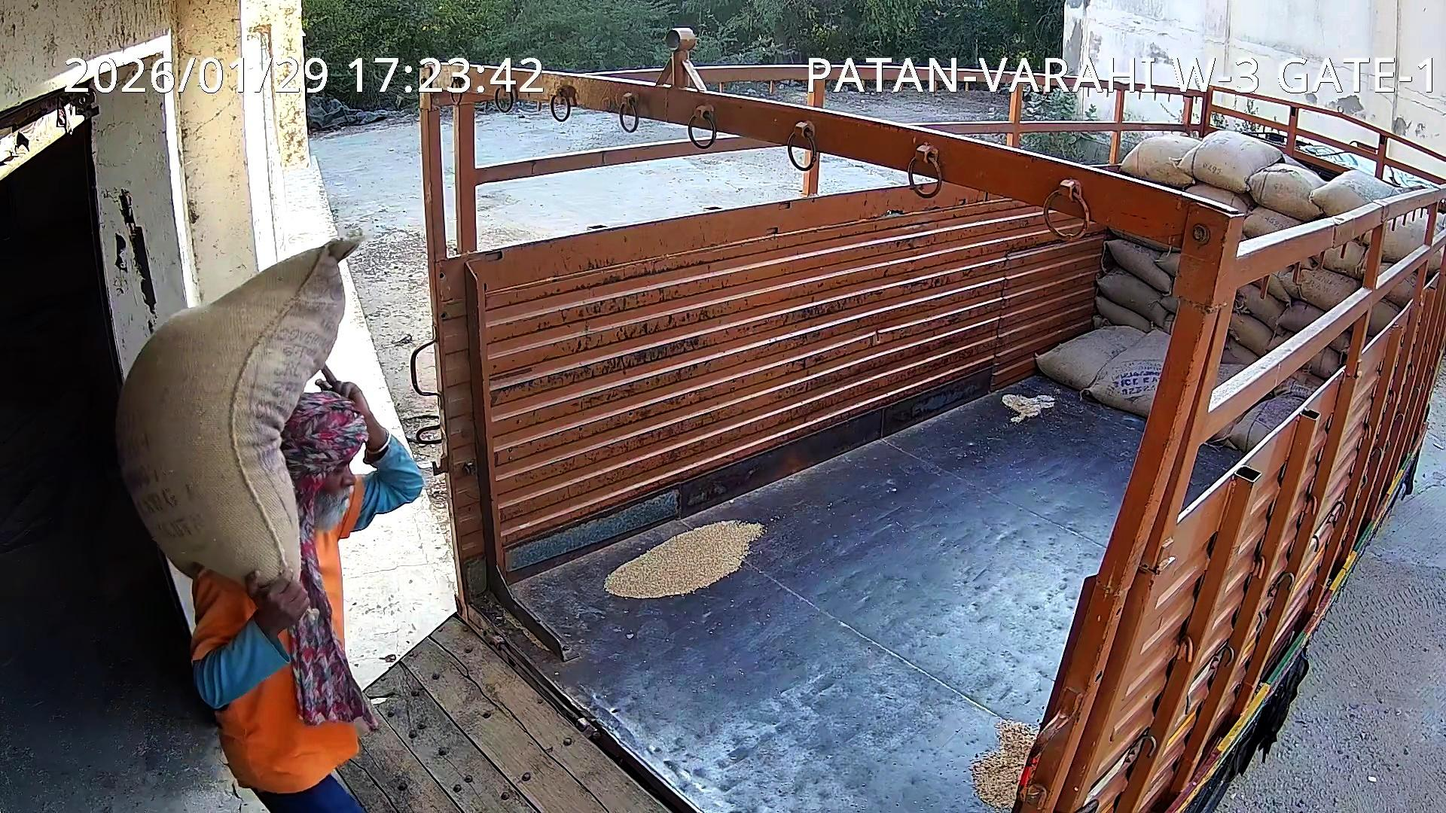Sack: (115, 239, 355, 580)
